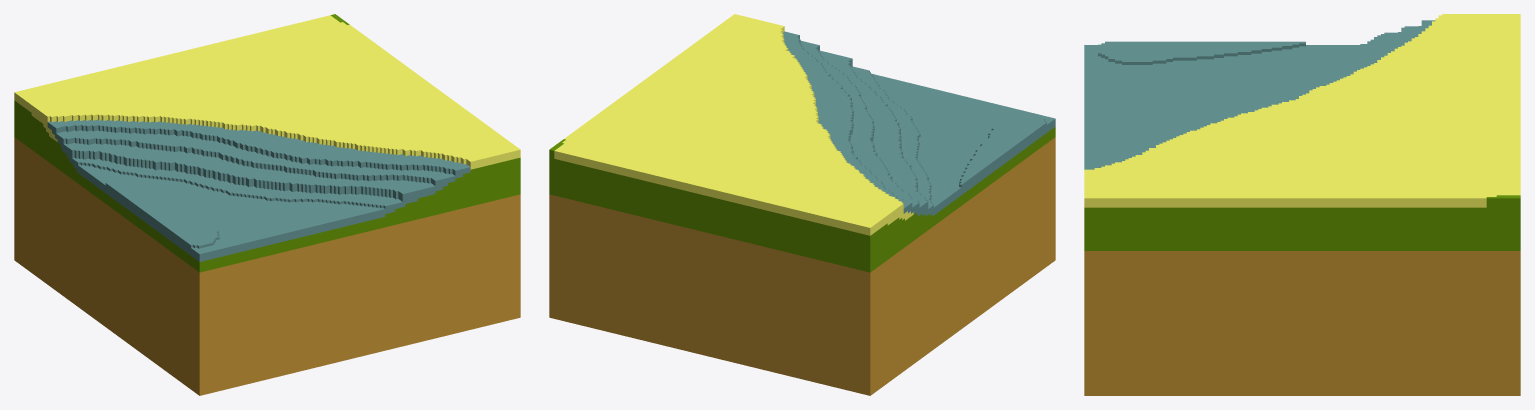
The picture shows the model from 3 angles, left to right: view 1: azimuth 30°, elevation 25°; view 2: azimuth 150°, elevation 25°; view 3: azimuth 270°, elevation 25°; orthographic projection. The views are drawn at different scales.
Visible parts, largest first — view 1: 13K; view 2: 13K; view 3: 13K.
Boxes of the visible parts, left/top/right/bottom form: 13K: left=14, top=14, right=520, bottom=395; 13K: left=549, top=14, right=1055, bottom=395; 13K: left=1084, top=14, right=1520, bottom=395.
Size of the model in its own units: 12.8 by 6.4 by 12.8.
1 material, 1 textured.
